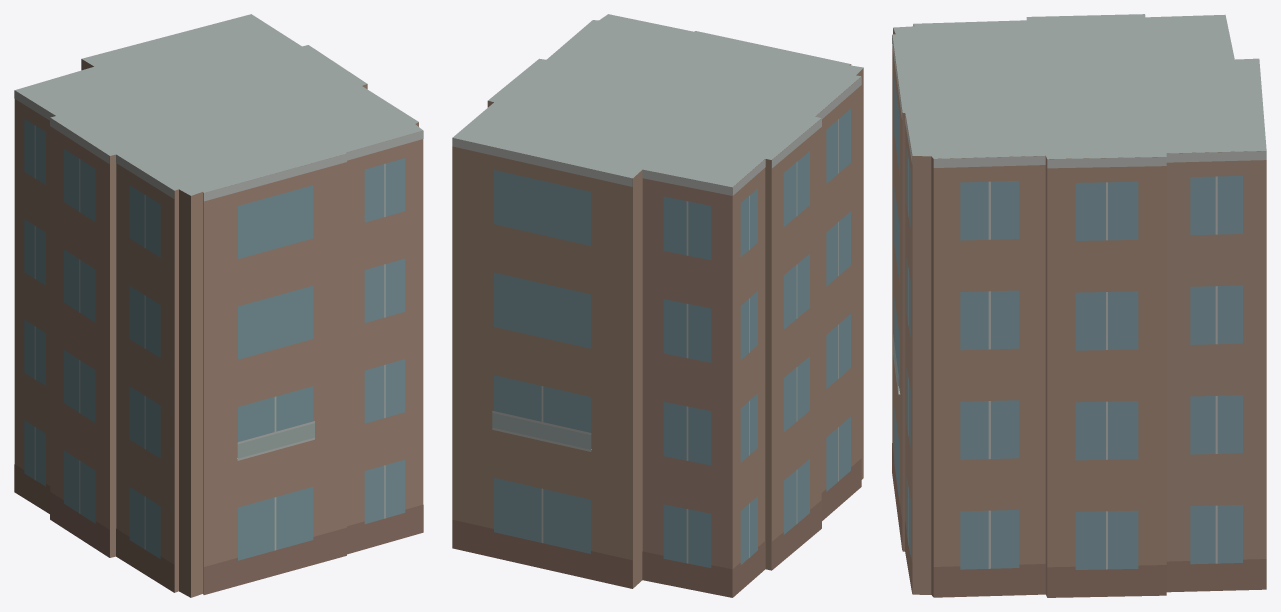
Rendered from survey-upis-32812830.glb.
The picture shows the model from 3 angles, left to right: view 1: azimuth 30°, elevation 25°; view 2: azimuth 150°, elevation 25°; view 3: azimuth 270°, elevation 25°; orthographic projection. The views are drawn at different scales.
Visible parts, largest first — view 1: survey-upis-32812830.tmp; view 2: survey-upis-32812830.tmp; view 3: survey-upis-32812830.tmp.
Part boxes in pixels (left/top/right/bottom): survey-upis-32812830.tmp: left=14, top=14, right=423, bottom=597; survey-upis-32812830.tmp: left=452, top=14, right=863, bottom=597; survey-upis-32812830.tmp: left=892, top=14, right=1266, bottom=597.
Bounding box in the file's own units: 8.24 × 11.6 × 8.98.
